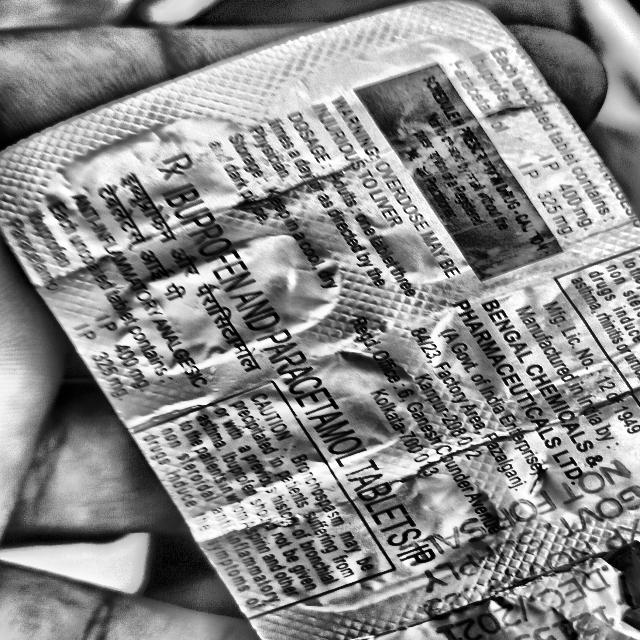IBUPROFEN AND PARACETAMOL TABLETS: (142, 174, 454, 583)
